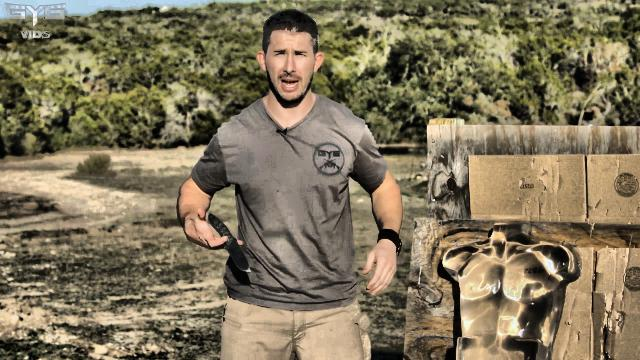knife: (192, 213, 254, 277)
